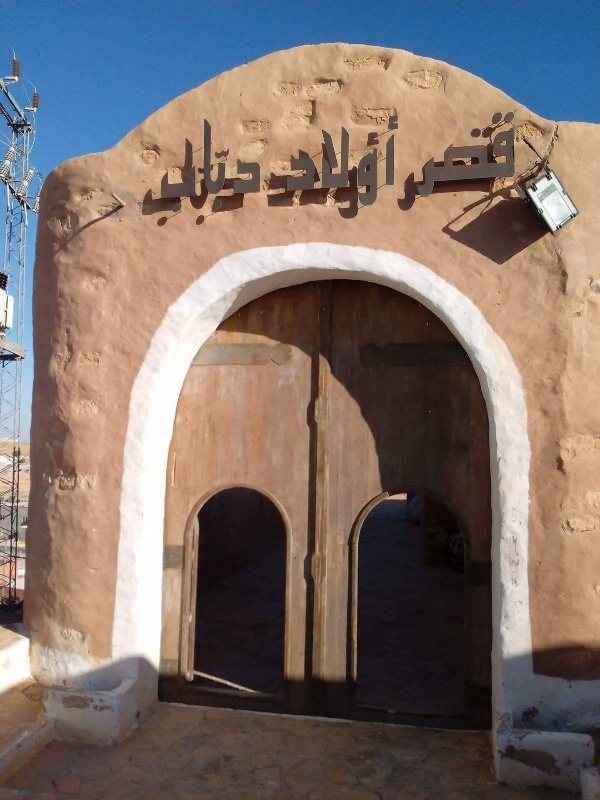text: (385, 115, 401, 208), (161, 116, 176, 213), (177, 116, 192, 213), (193, 116, 208, 213), (209, 116, 224, 213), (225, 116, 240, 213), (241, 116, 256, 213), (289, 115, 304, 208), (305, 115, 320, 208), (321, 115, 336, 208), (337, 115, 352, 208), (353, 115, 368, 208), (369, 115, 384, 208), (417, 112, 432, 198), (433, 112, 448, 198), (449, 112, 464, 198), (465, 112, 480, 198), (481, 112, 496, 198), (497, 112, 512, 198), (257, 116, 262, 213), (284, 115, 288, 208), (513, 112, 516, 198), (415, 112, 416, 198)
